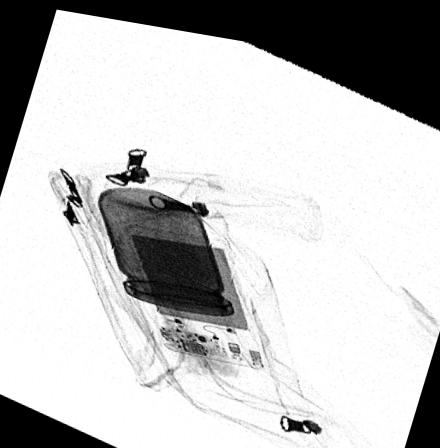Powerbank: (124, 217, 268, 361)
